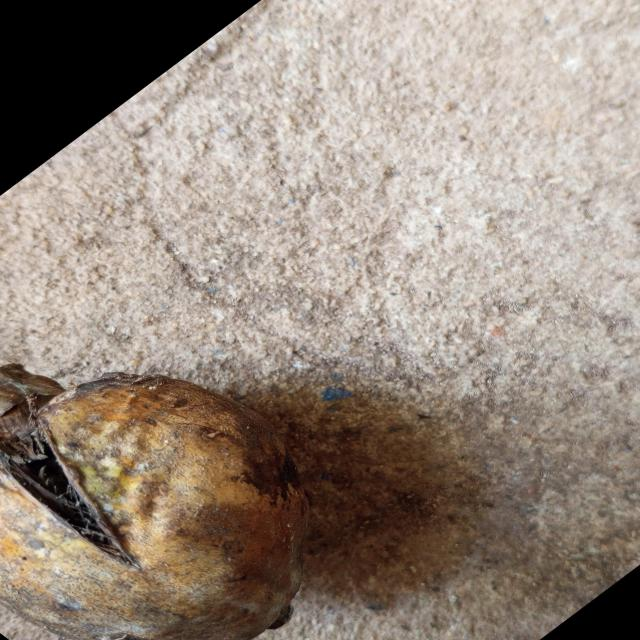damaged: (0, 366, 308, 640)
